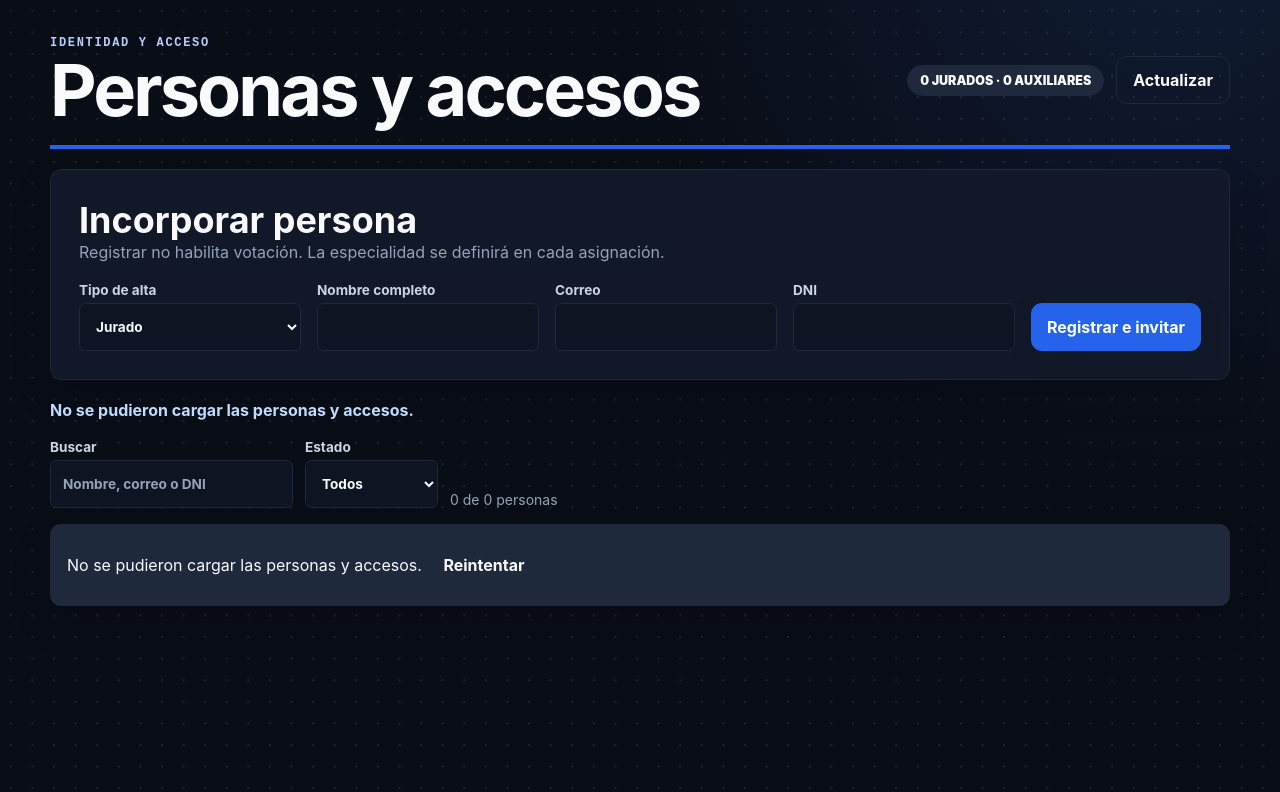
Scenario: AdminJudgesPage › ofrece reintentar sin recargar cuando la carga inicial falla
Click the button "Reintentar" at [484, 565], box [426,541,542,589]
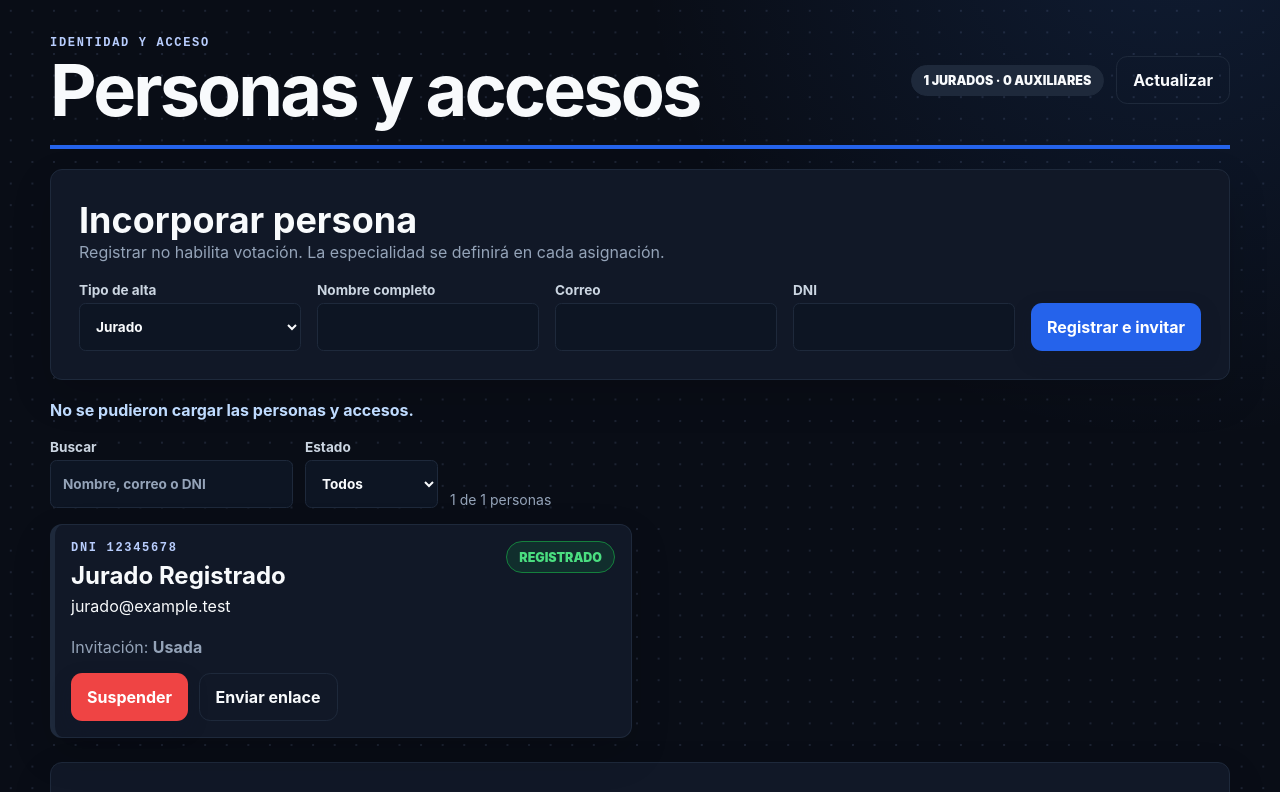
Expected: the heading "Jurado Registrado" is shown, [71,561,286,590]
